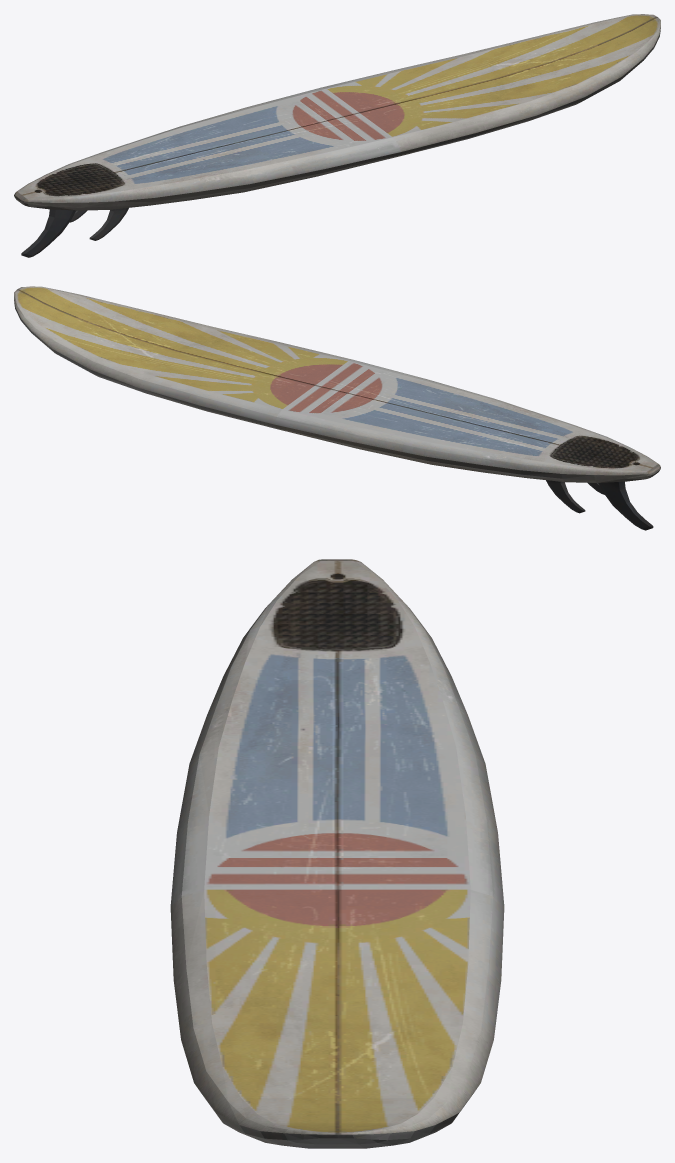
File: surfboard.obj
3 renders of one model, top to bottom at view 1: azimuth 30°, elevation 25°; view 2: azimuth 150°, elevation 25°; view 3: azimuth 270°, elevation 25°, orthographic. The views are drawn at different scales.
Visible parts, largest first — view 1: surfboard; view 2: surfboard; view 3: surfboard.
Boxes of the visible parts, x1,y1,x2,y2 form: surfboard: [14, 14, 660, 257]; surfboard: [14, 286, 660, 530]; surfboard: [170, 559, 504, 1148].
Size of the model in its own units: 135 by 17.63 by 30.45.
